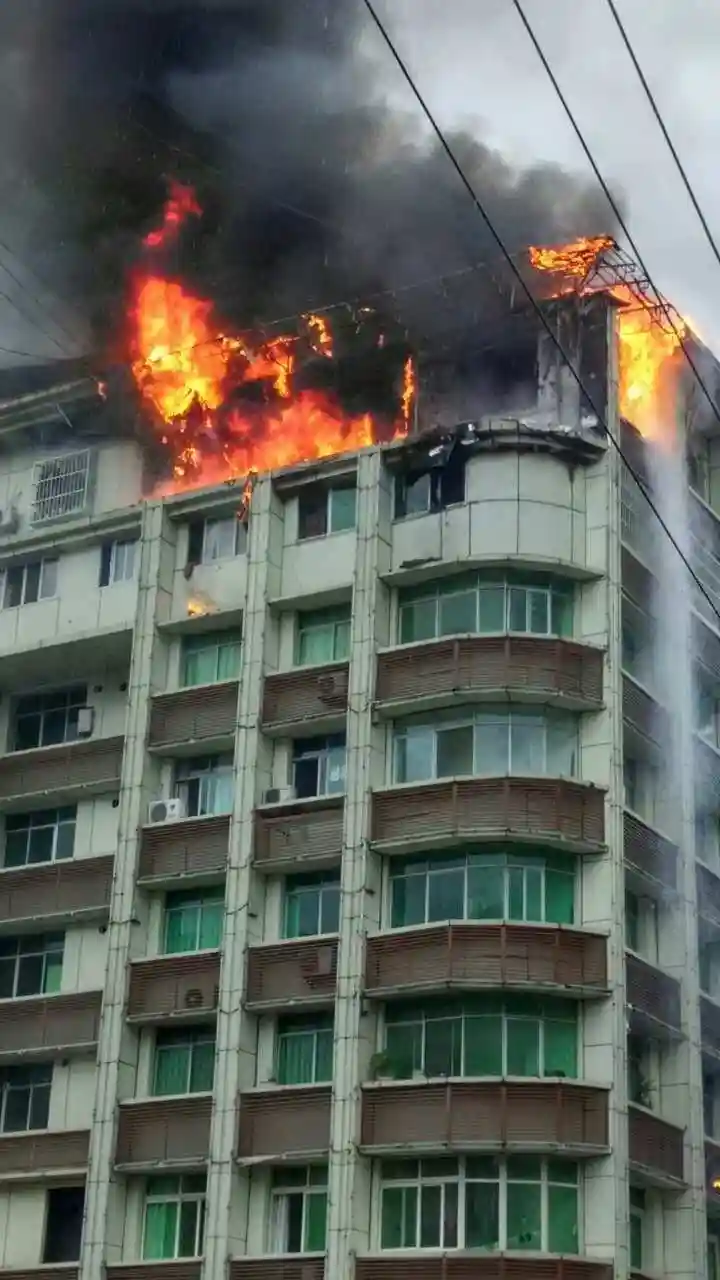fire: (5, 5, 697, 474)
